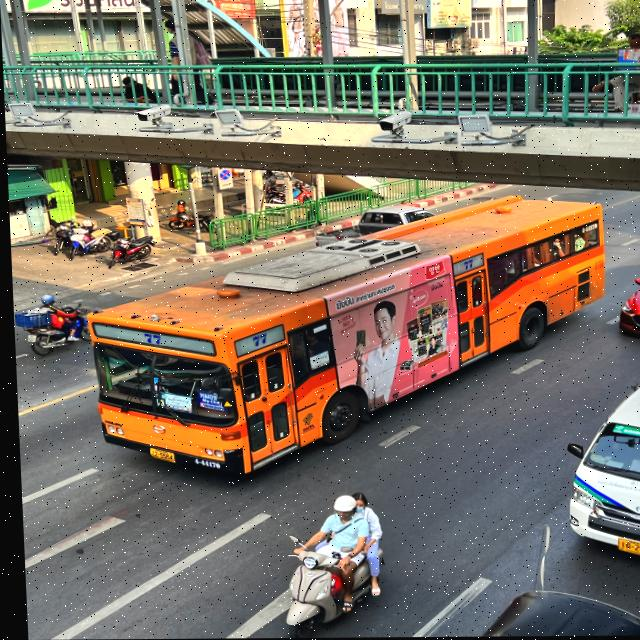BMTA-bus: (82, 191, 605, 479)
Bus Line Number: (134, 327, 164, 346), (245, 330, 271, 349)
Bus Side Number: (184, 457, 220, 469)
Destination Sign: (193, 393, 220, 411)
